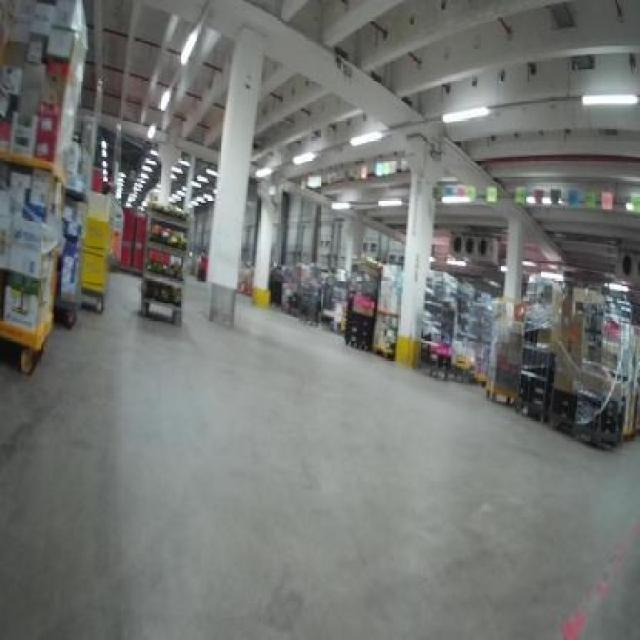floor: (0, 271, 637, 637)
pallets: (0, 148, 62, 371), (138, 202, 186, 322)
